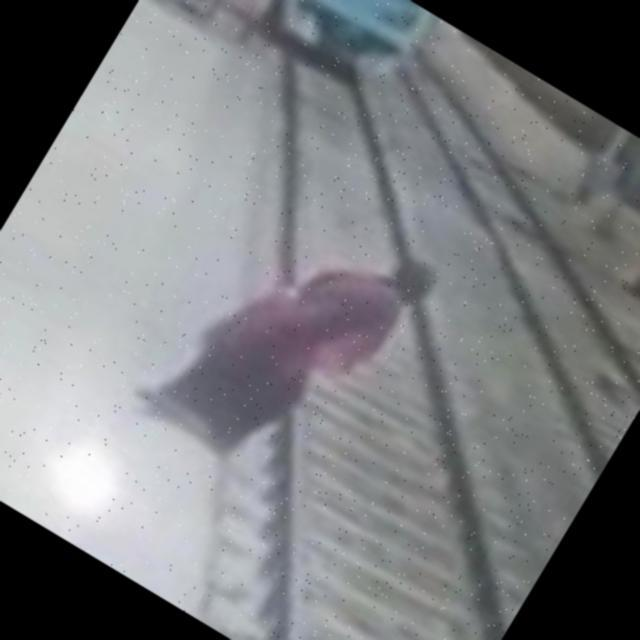person: (118, 125, 486, 528)
